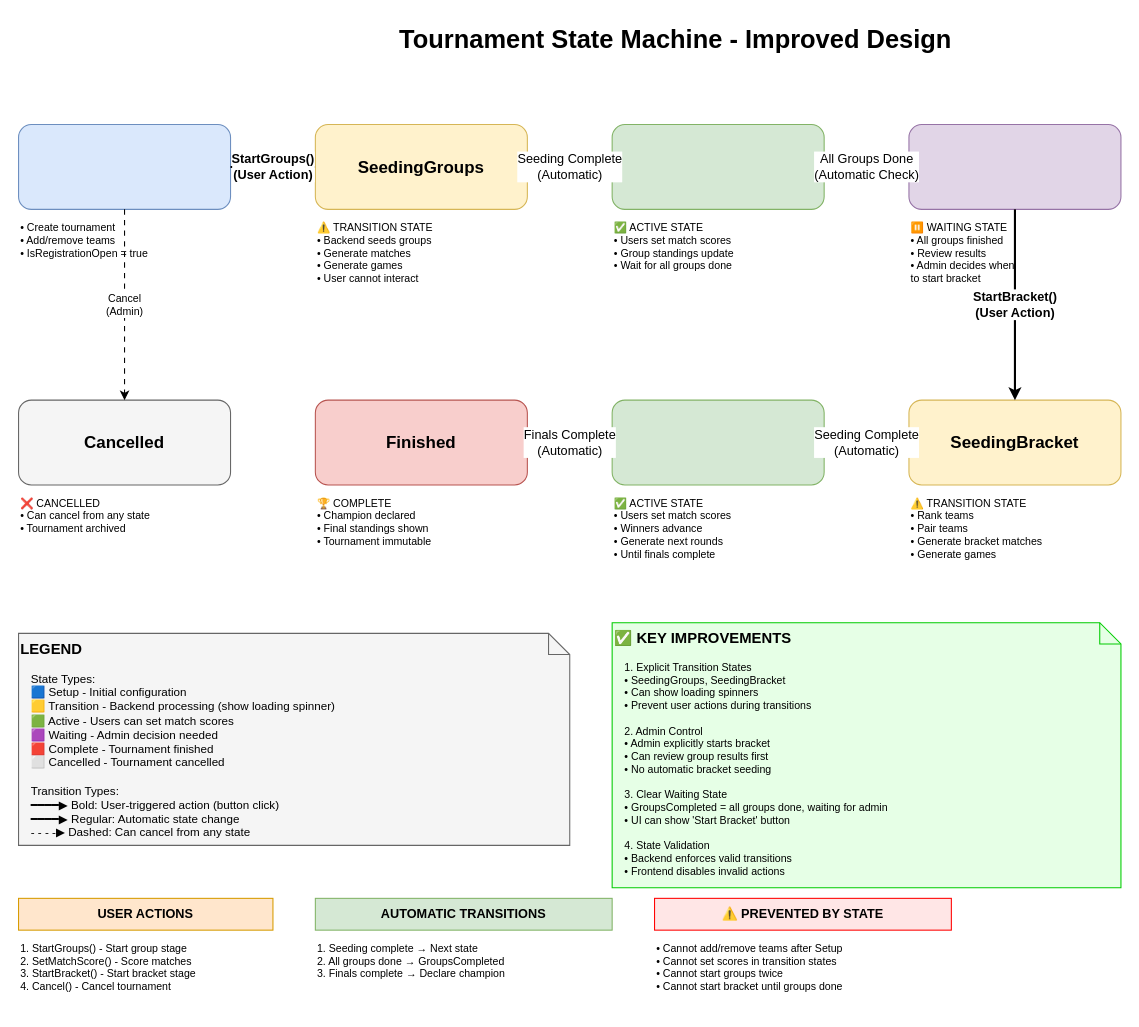
Some shapes in this 1139 by 1027 pixel diagram are drawn without their labels. The centre of each missing label's shape, as x and y in pixels:
"BracketInProgress" goes at point 717,442.
"GroupsCompleted" goes at point 1014,166.
"GroupsInProgress" goes at point 717,166.
"Setup" goes at point 124,166.
